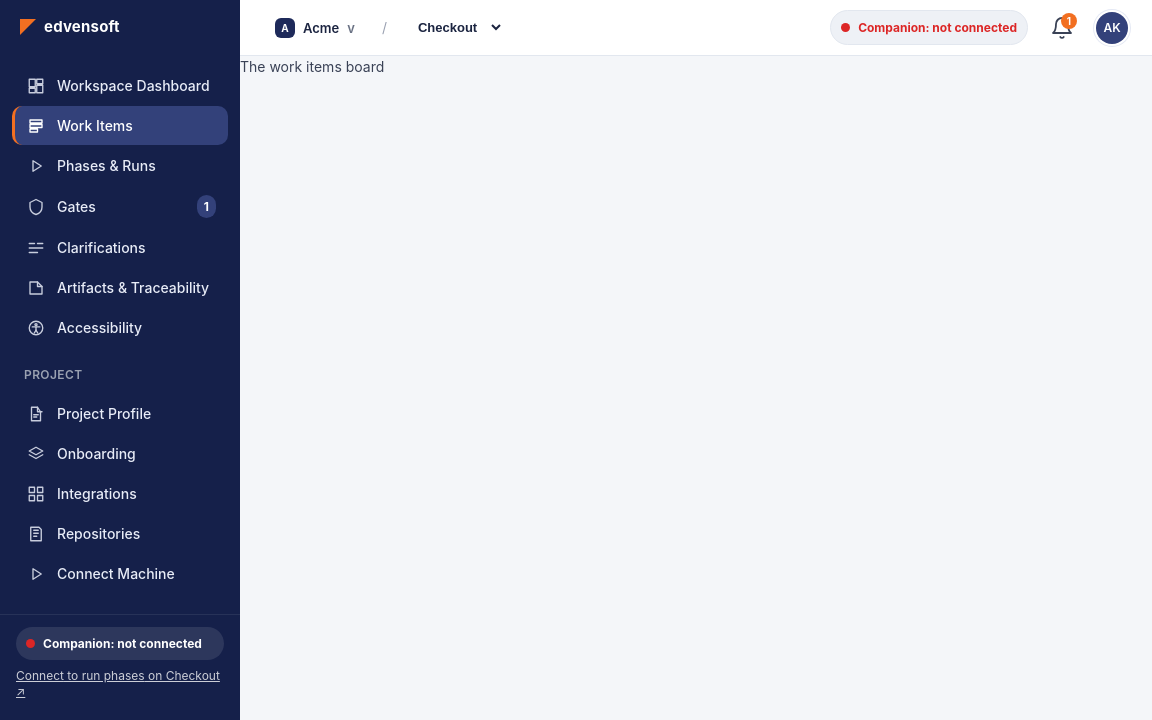
Test: the bell (N2) › opens the Needs-me queue and lands on it, not at the top of the page
What coordinates should you click on to do the following:
click the button named "Notifications, 1 unread"
I would click on:
 (1062, 28)
Its box is 1044,10 -> 1080,46.
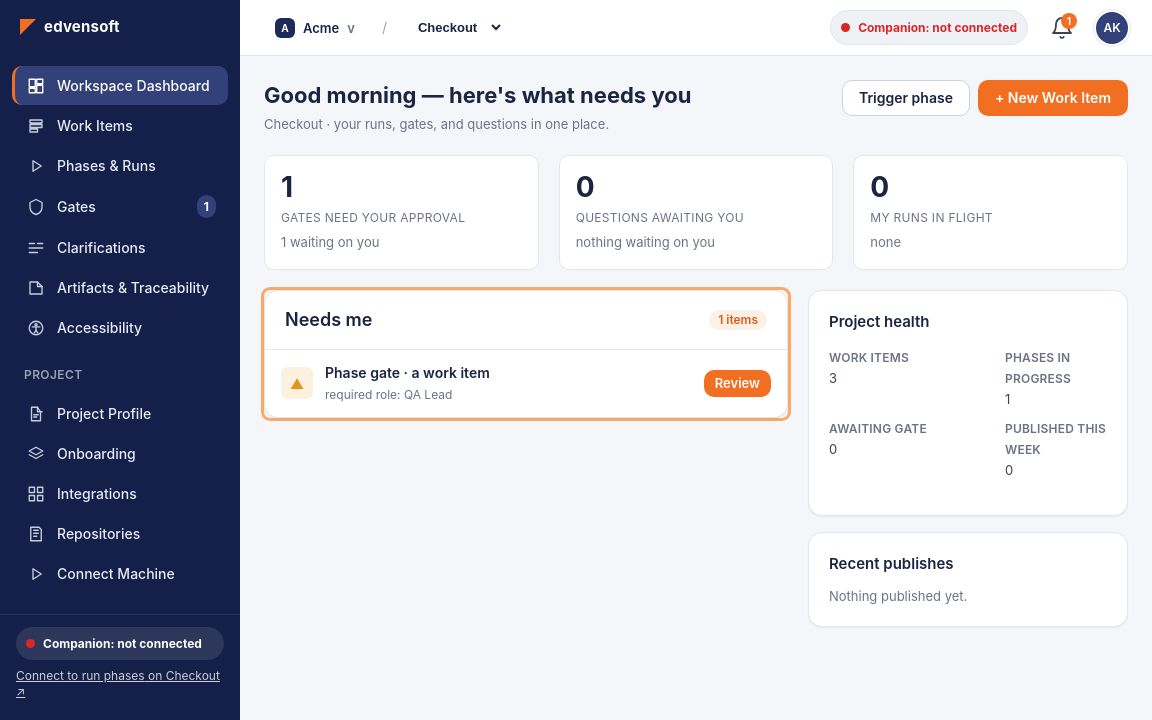
Now the heading "Needs me" is shown, box 285,307 -> 372,333
Now the text "The work items board" is gone
